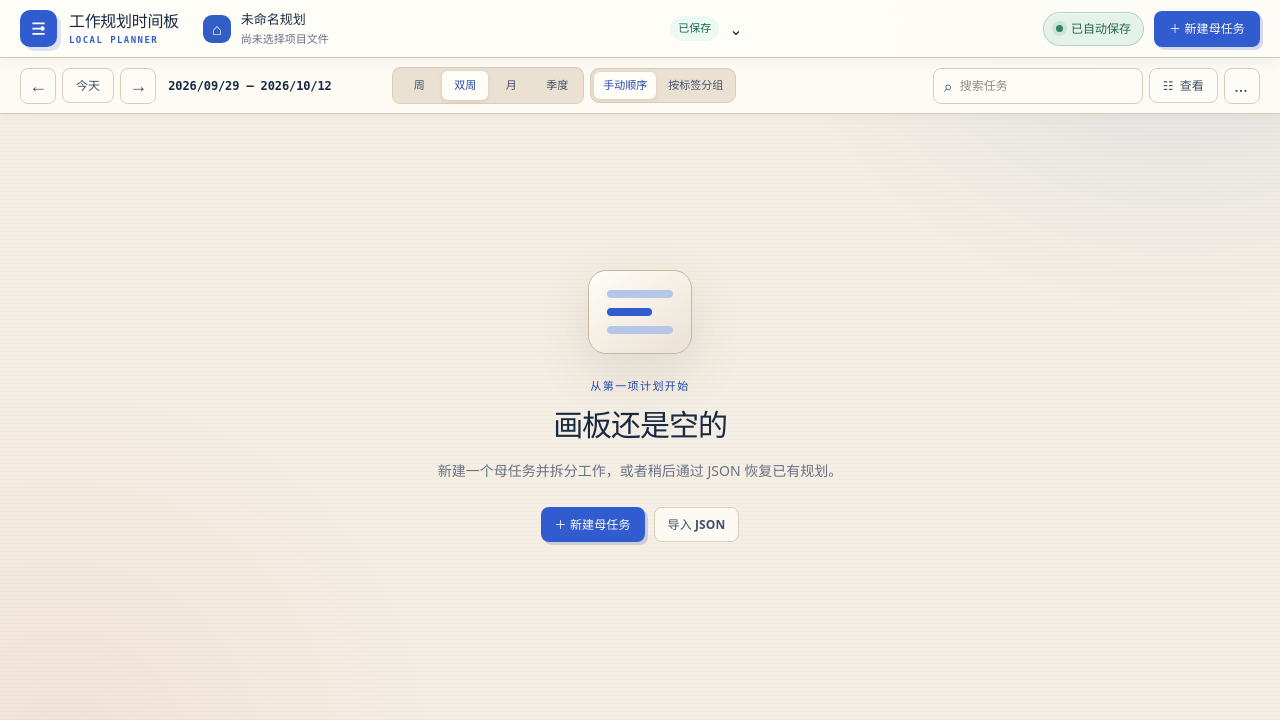
board menus › switches between project, view and more menus without leaving the previous one open
The width and height of the screenshot is (1280, 720).
Click the button "⌂ 未命名规划 尚未选择项目文件 已保存 ⌄" at (273, 18), box [193,6,753,50]
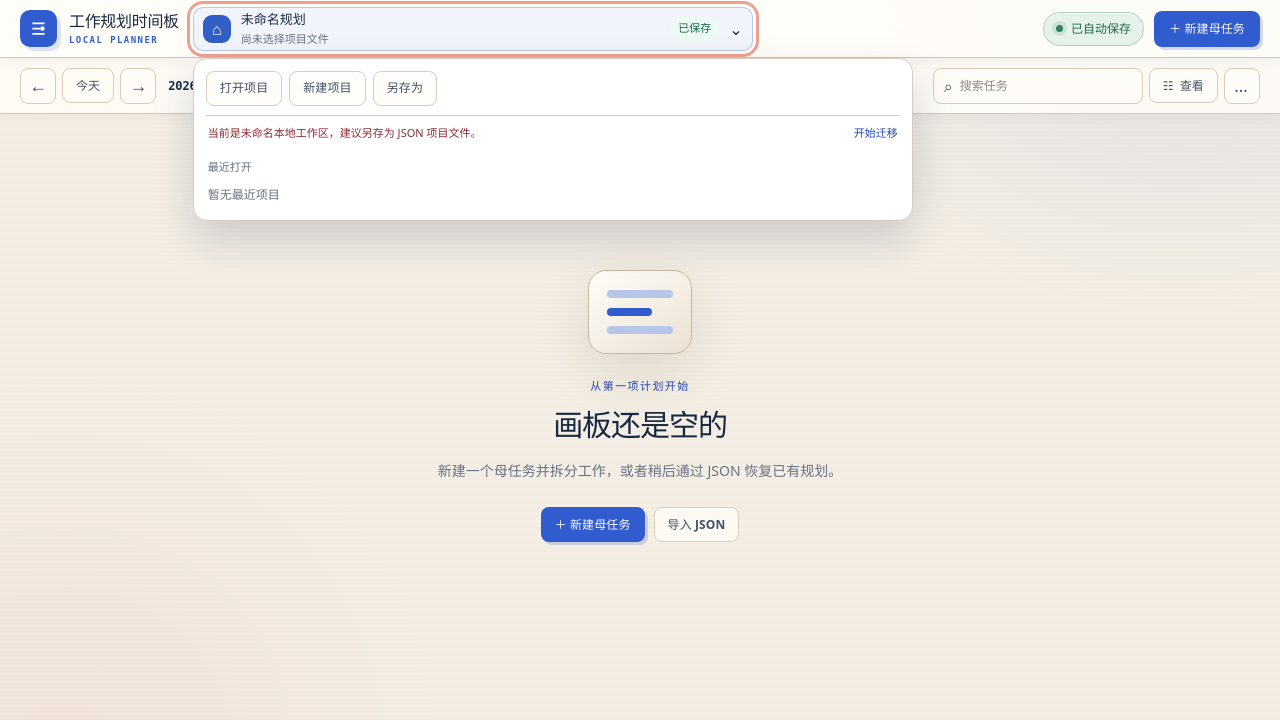
Now the number of menus is 1, box [193,58,913,220]
Click the button "☷ 查看" at (1183, 86), box [1149,68,1218,103]
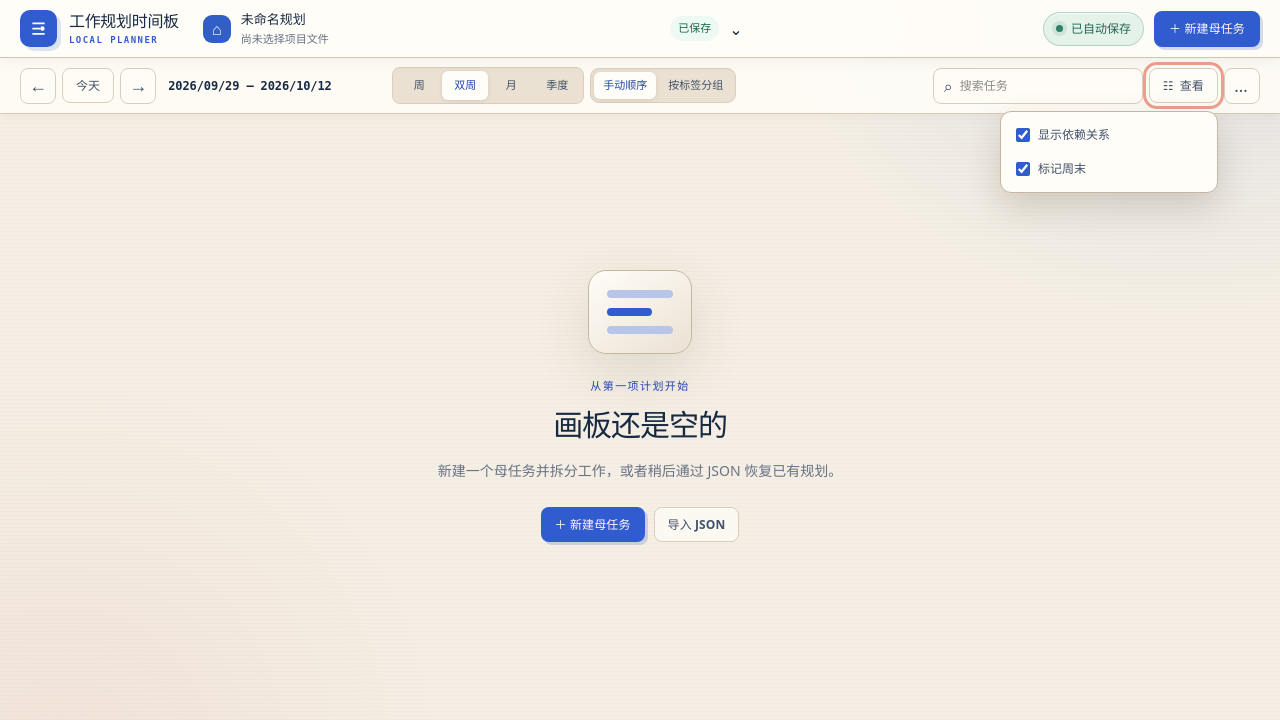
Now the number of menus is 1, box [1000,111,1218,193]
Click the button named "更多数据操作" at (1242, 86), box [1224,68,1260,104]
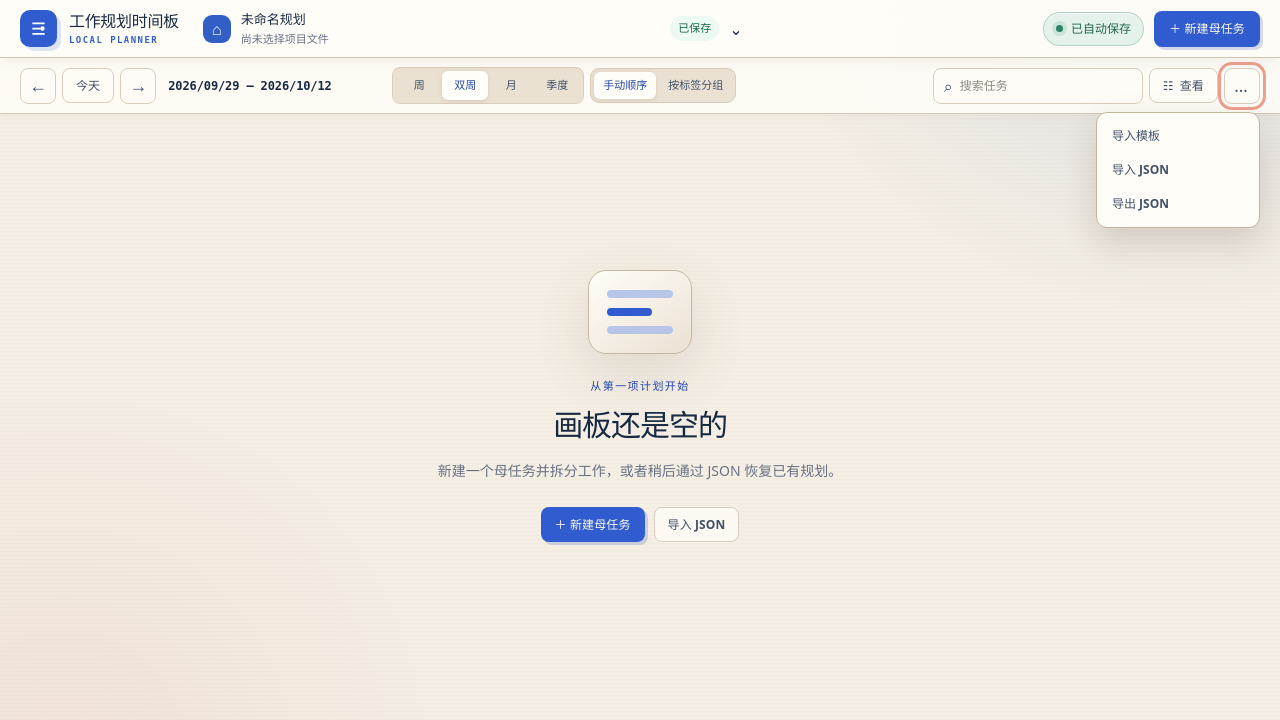
Now the number of menus is 1, box [1096,112,1260,228]
Click the button "⌂ 未命名规划 尚未选择项目文件 已保存 ⌄" at (273, 18), box [193,6,753,50]
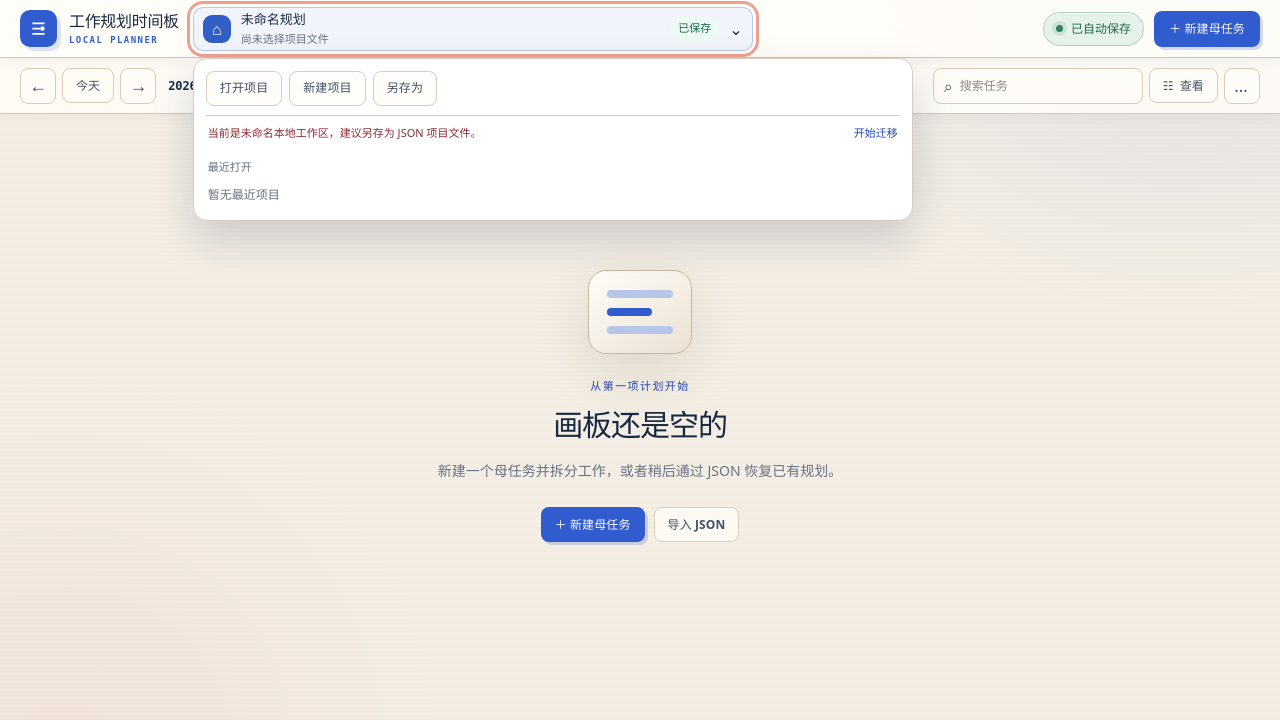
Now the number of menus is 1, box [193,58,913,220]
